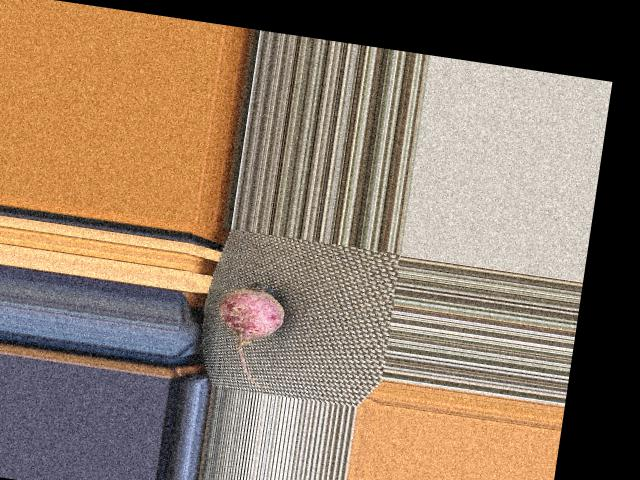beet: (208, 276, 287, 386)
